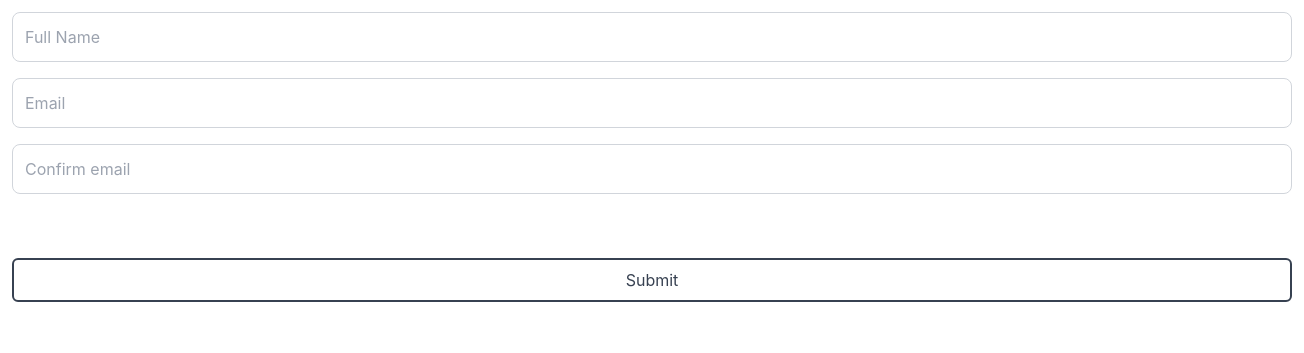
Test: UserEmailForm › should show an error if the email is invalid
The width and height of the screenshot is (1304, 353).
In the field with placeholder "Full Name": (652, 37) [12,12,1292,62], type "John Doe"
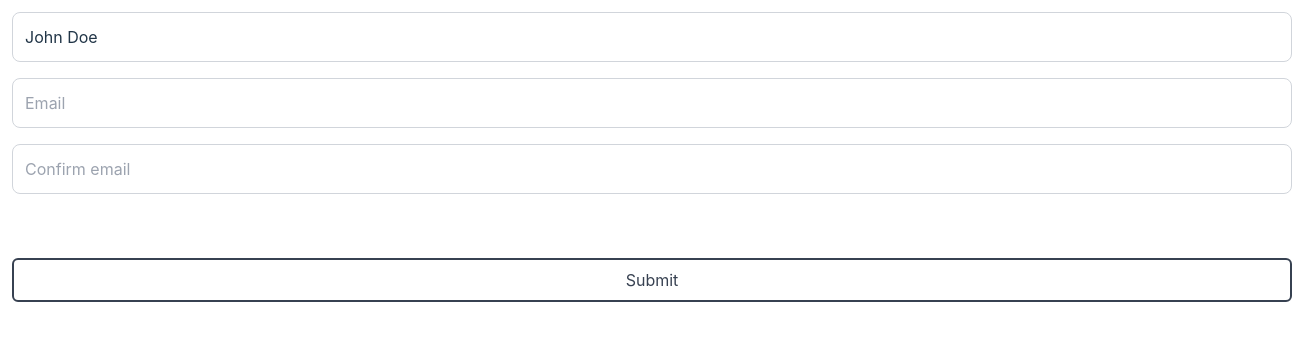
In the field with placeholder "Email": (652, 103) [12,78,1292,128], type "invalid-email"
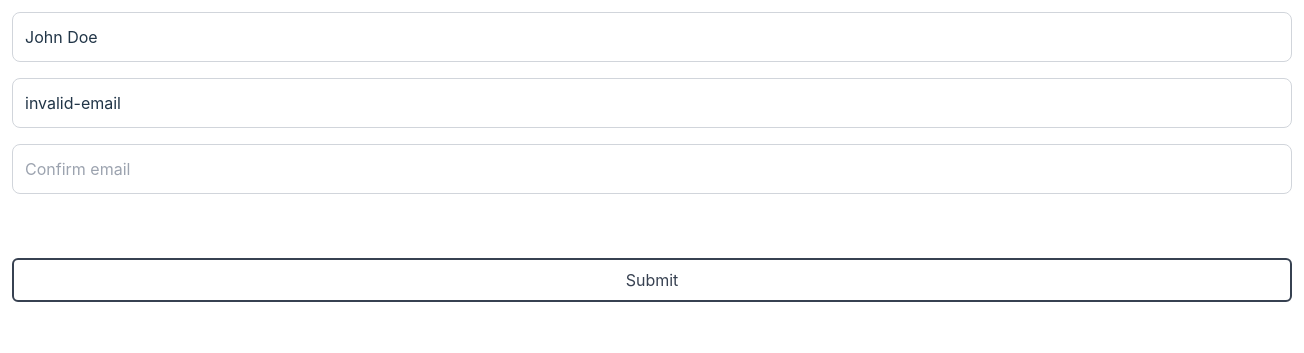
In the field with placeholder "Confirm email": (652, 169) [12,144,1292,194], type "invalid-email"
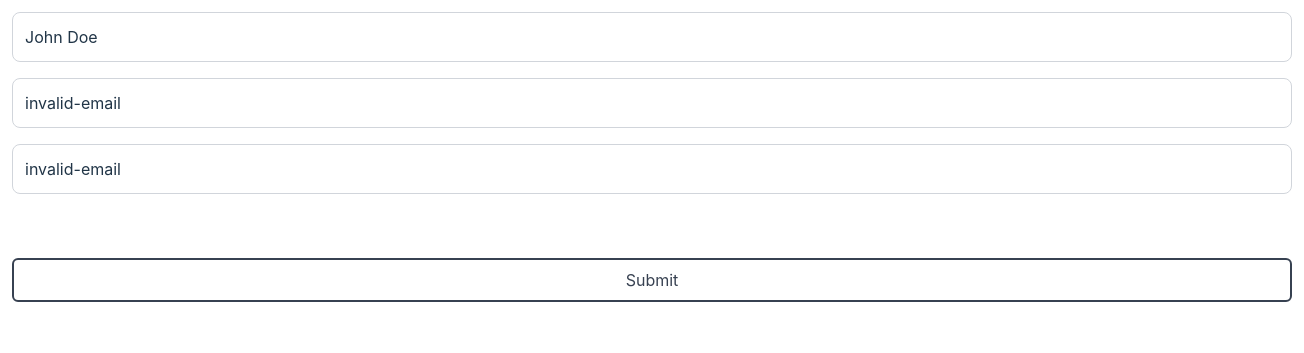
Click the button "Submit": (652, 280) [12,258,1292,302]
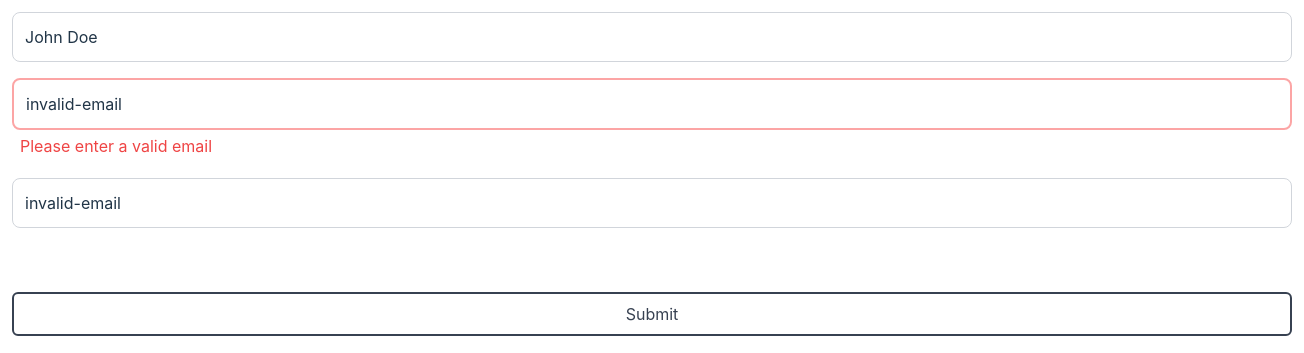
Check: the text "Please enter a valid email" is shown, box [20,136,212,156]
